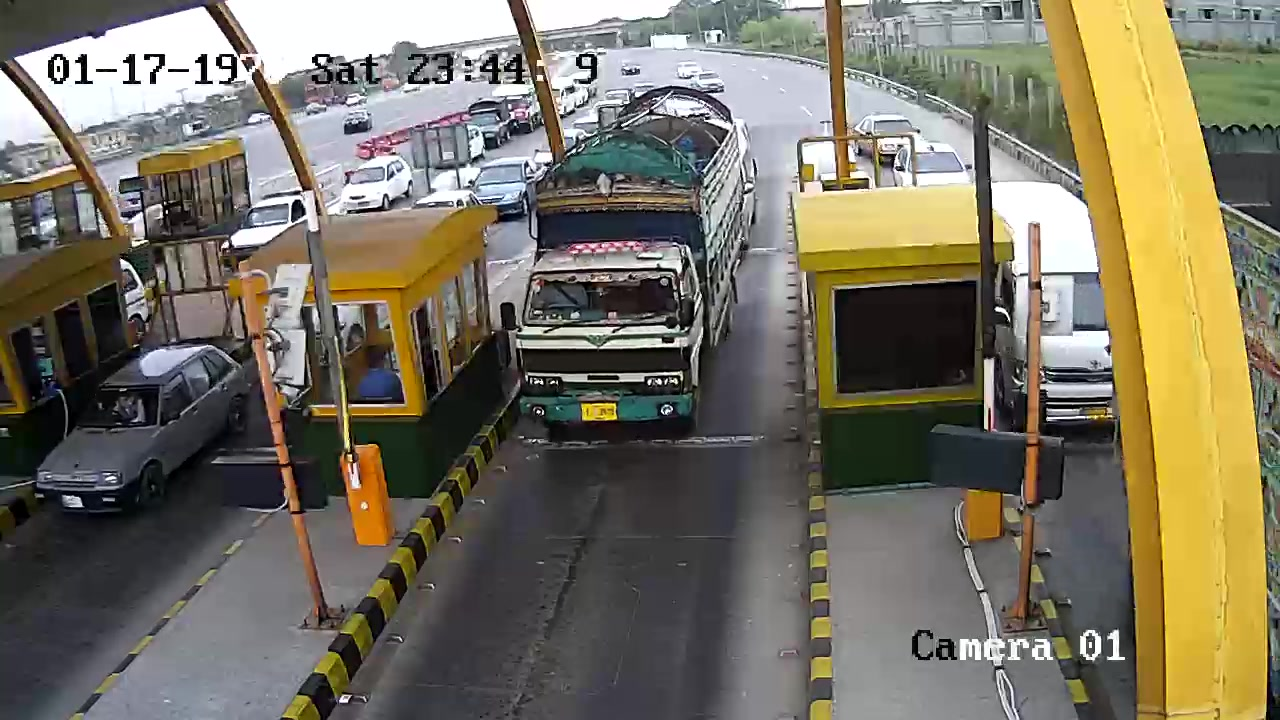F5: (511, 90, 750, 445)
